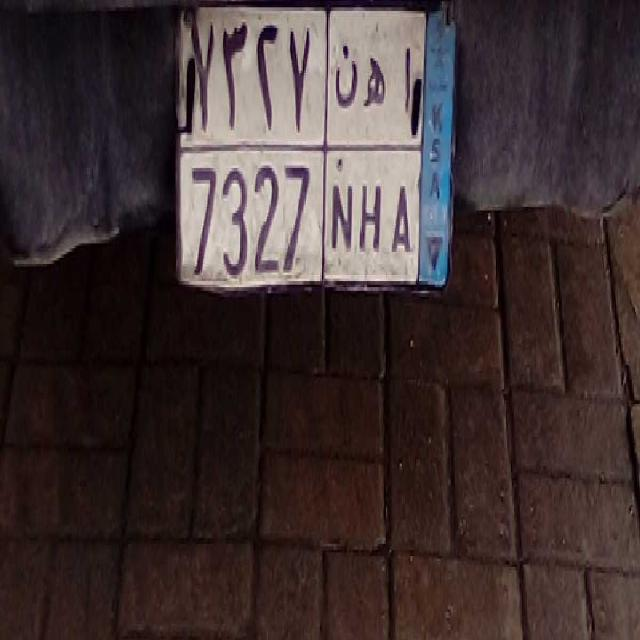license_plate: (180, 144, 420, 290)
